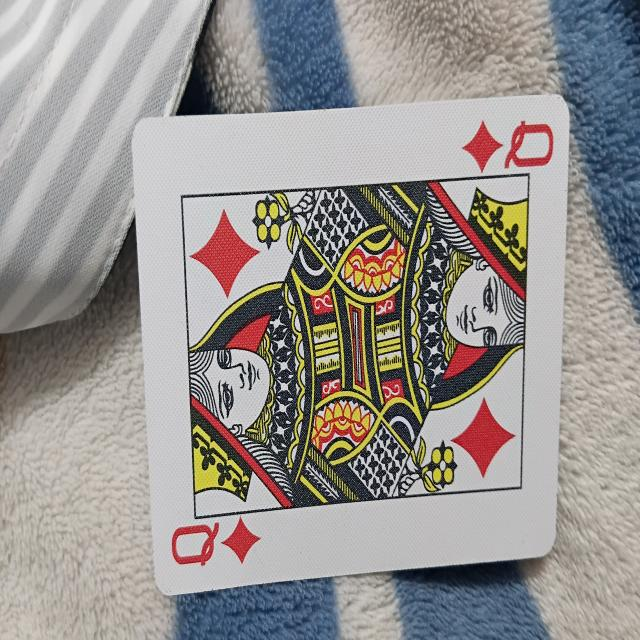QD: (132, 109, 565, 584)
